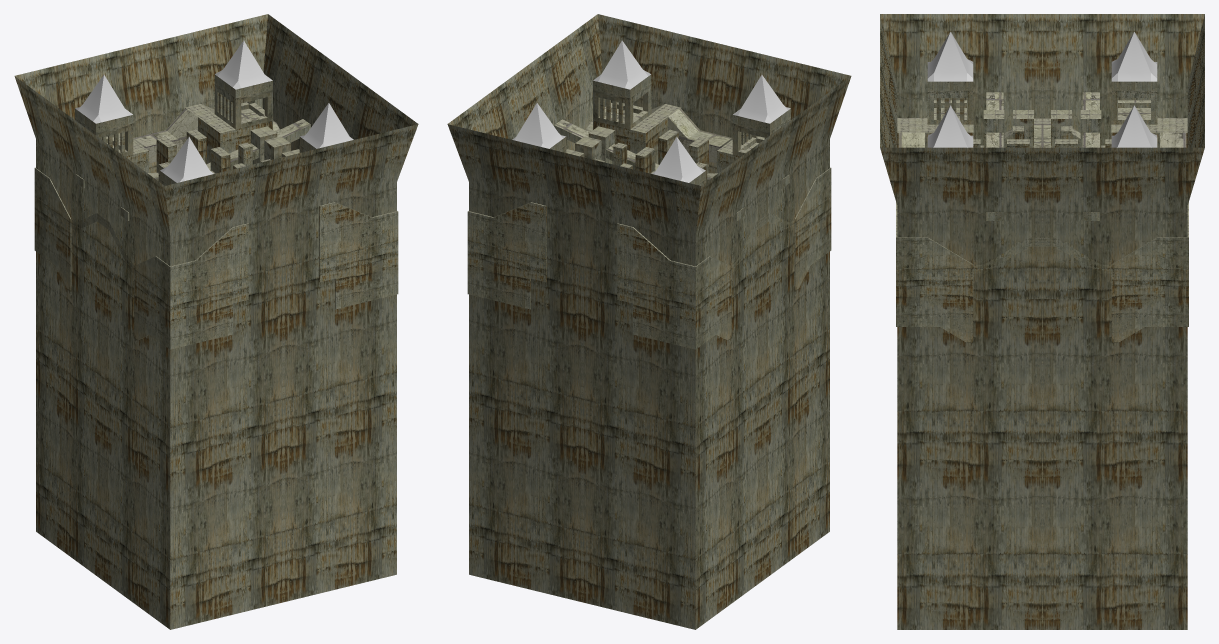
Rendered from SM_LDFest_09.fbx.
3 views of the same model, side by side, from view 1: azimuth 30°, elevation 25°; view 2: azimuth 150°, elevation 25°; view 3: azimuth 270°, elevation 25° (orthographic). The views are drawn at different scales.
Parts seen in each view (by area): view 1: SM_LDFest_09; view 2: SM_LDFest_09; view 3: SM_LDFest_09.
Part boxes in pixels (box(x1,y1,x2,y2)): SM_LDFest_09: box(14, 14, 418, 629); SM_LDFest_09: box(447, 14, 851, 629); SM_LDFest_09: box(880, 14, 1204, 629).
Size of the model in its own units: 6051 by 10592 by 6215.
